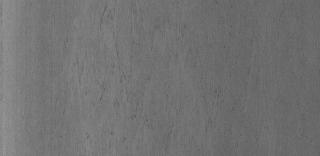silk spot: (58, 3, 235, 147)
